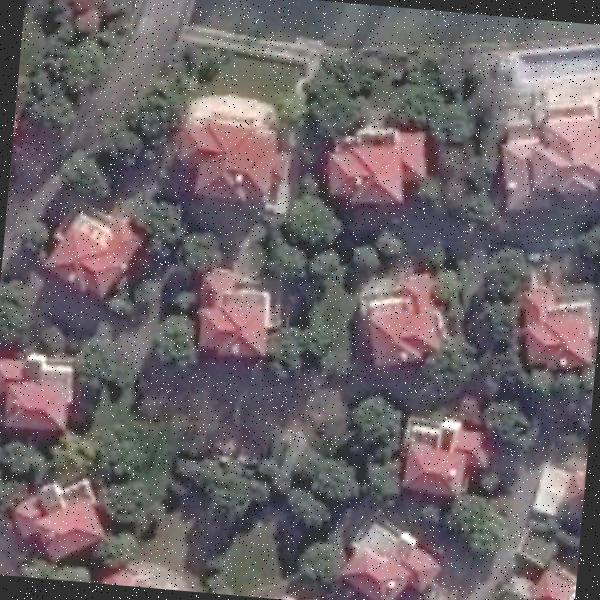Buildings: (470, 66, 600, 215), (170, 80, 306, 208), (317, 108, 442, 226), (492, 258, 600, 385), (354, 262, 456, 382), (41, 202, 148, 304), (0, 466, 110, 562), (190, 268, 292, 368), (386, 410, 496, 499), (0, 342, 90, 445), (338, 526, 450, 600), (518, 551, 578, 600)
